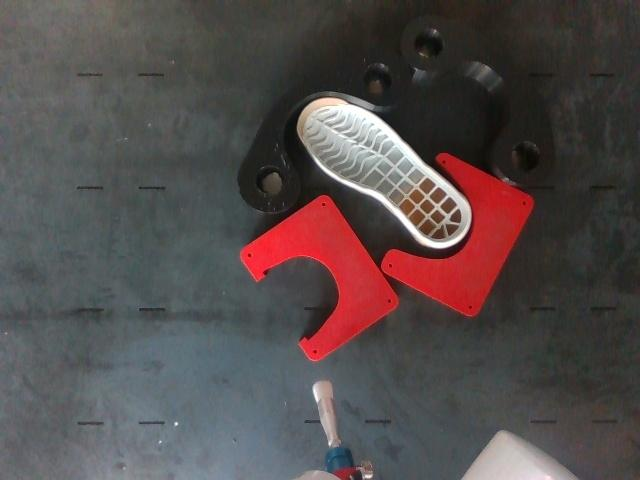shoes: (298, 99, 468, 243)
